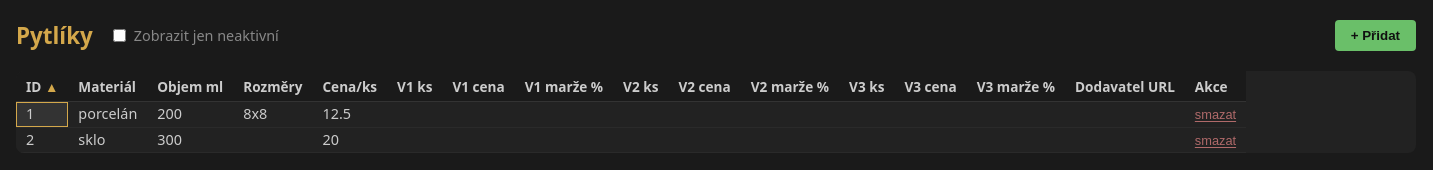
it: Bags › smazání zavolá deleteBag a odebere řádek
Expected: the text "porcelán" is shown, [68,102,147,127]
Click the button "smazat" in the row of "porcelán".
click(1215, 114)  # box [1195,107,1236,122]
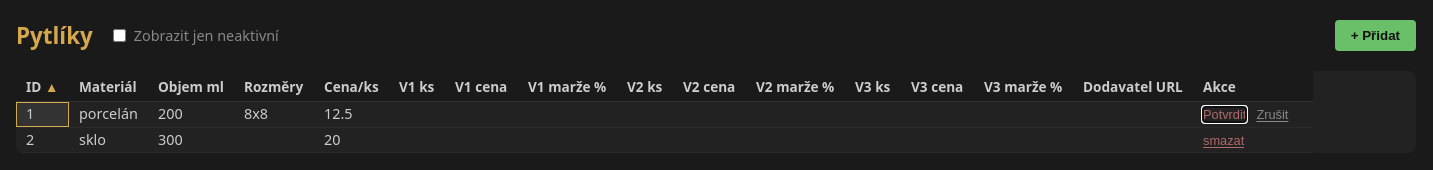
Click the button "Potvrdit".
click(1225, 114)  # box [1203,107,1246,122]
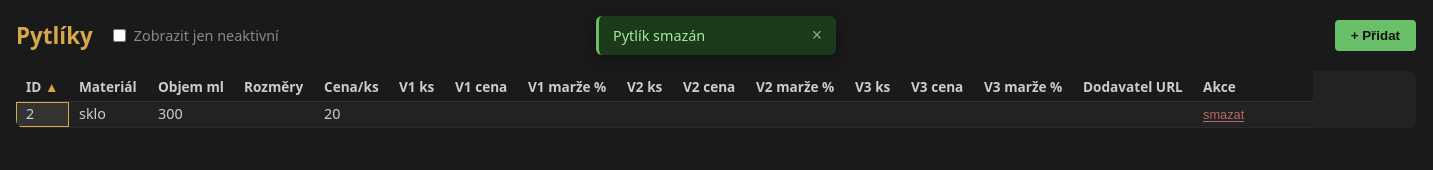
Now the text "porcelán" is gone
